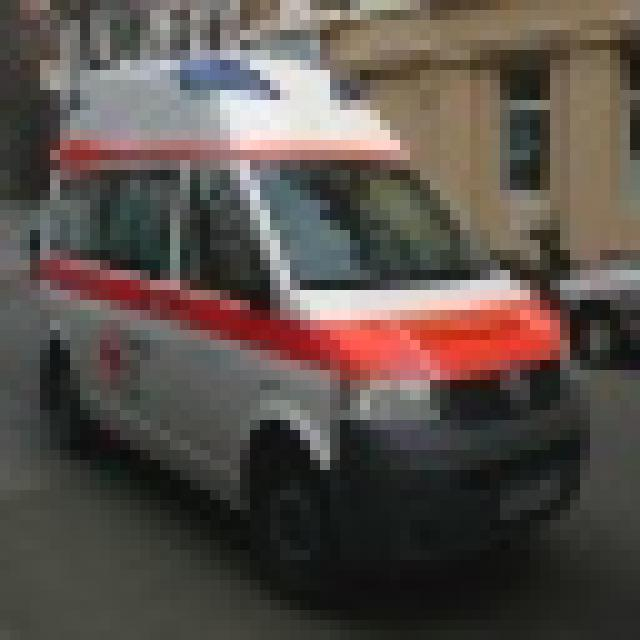Ambulance: (20, 40, 590, 590)
